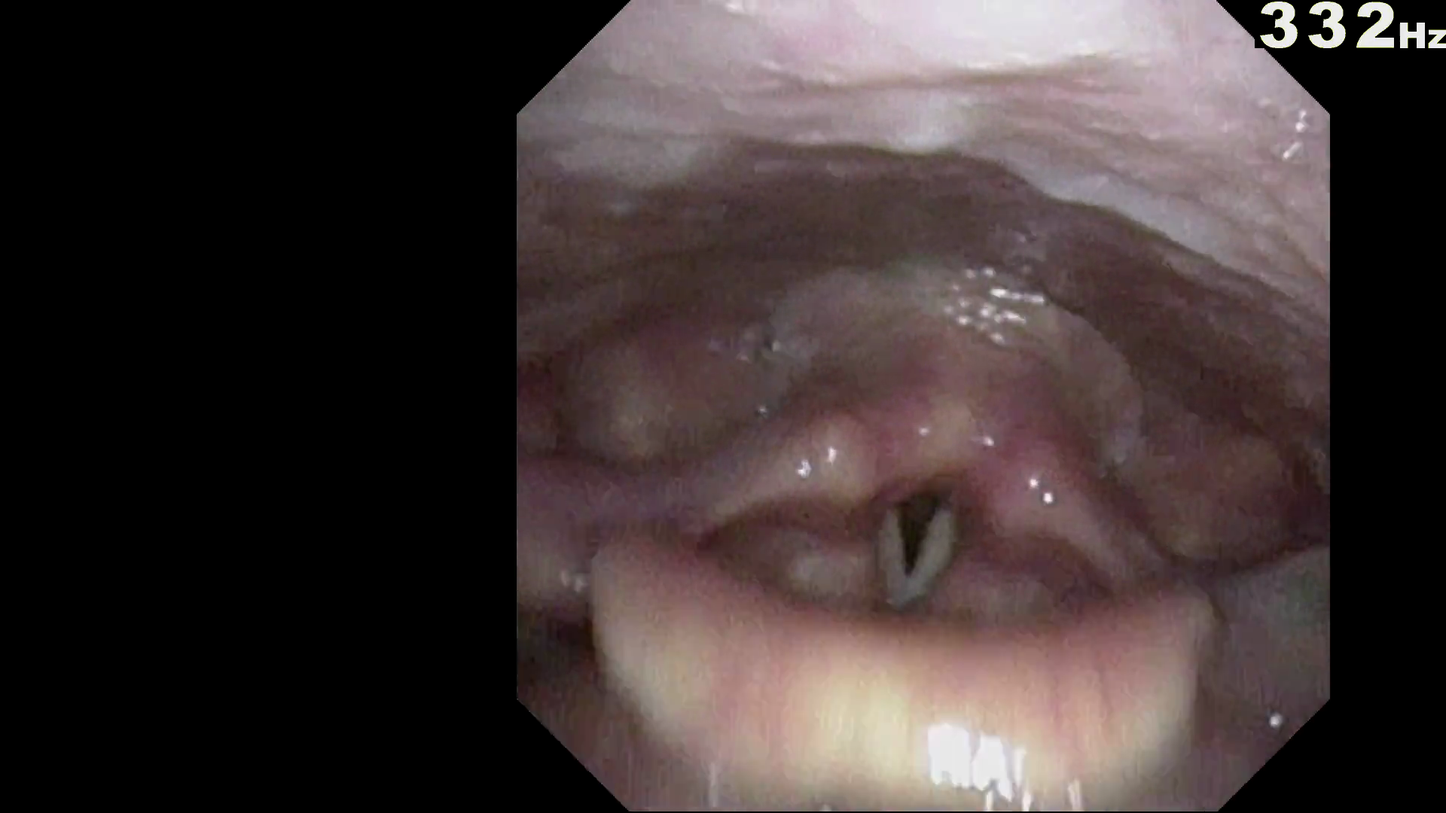epiglottis: (636, 545, 1222, 789)
trachea: (855, 432, 1013, 620)
